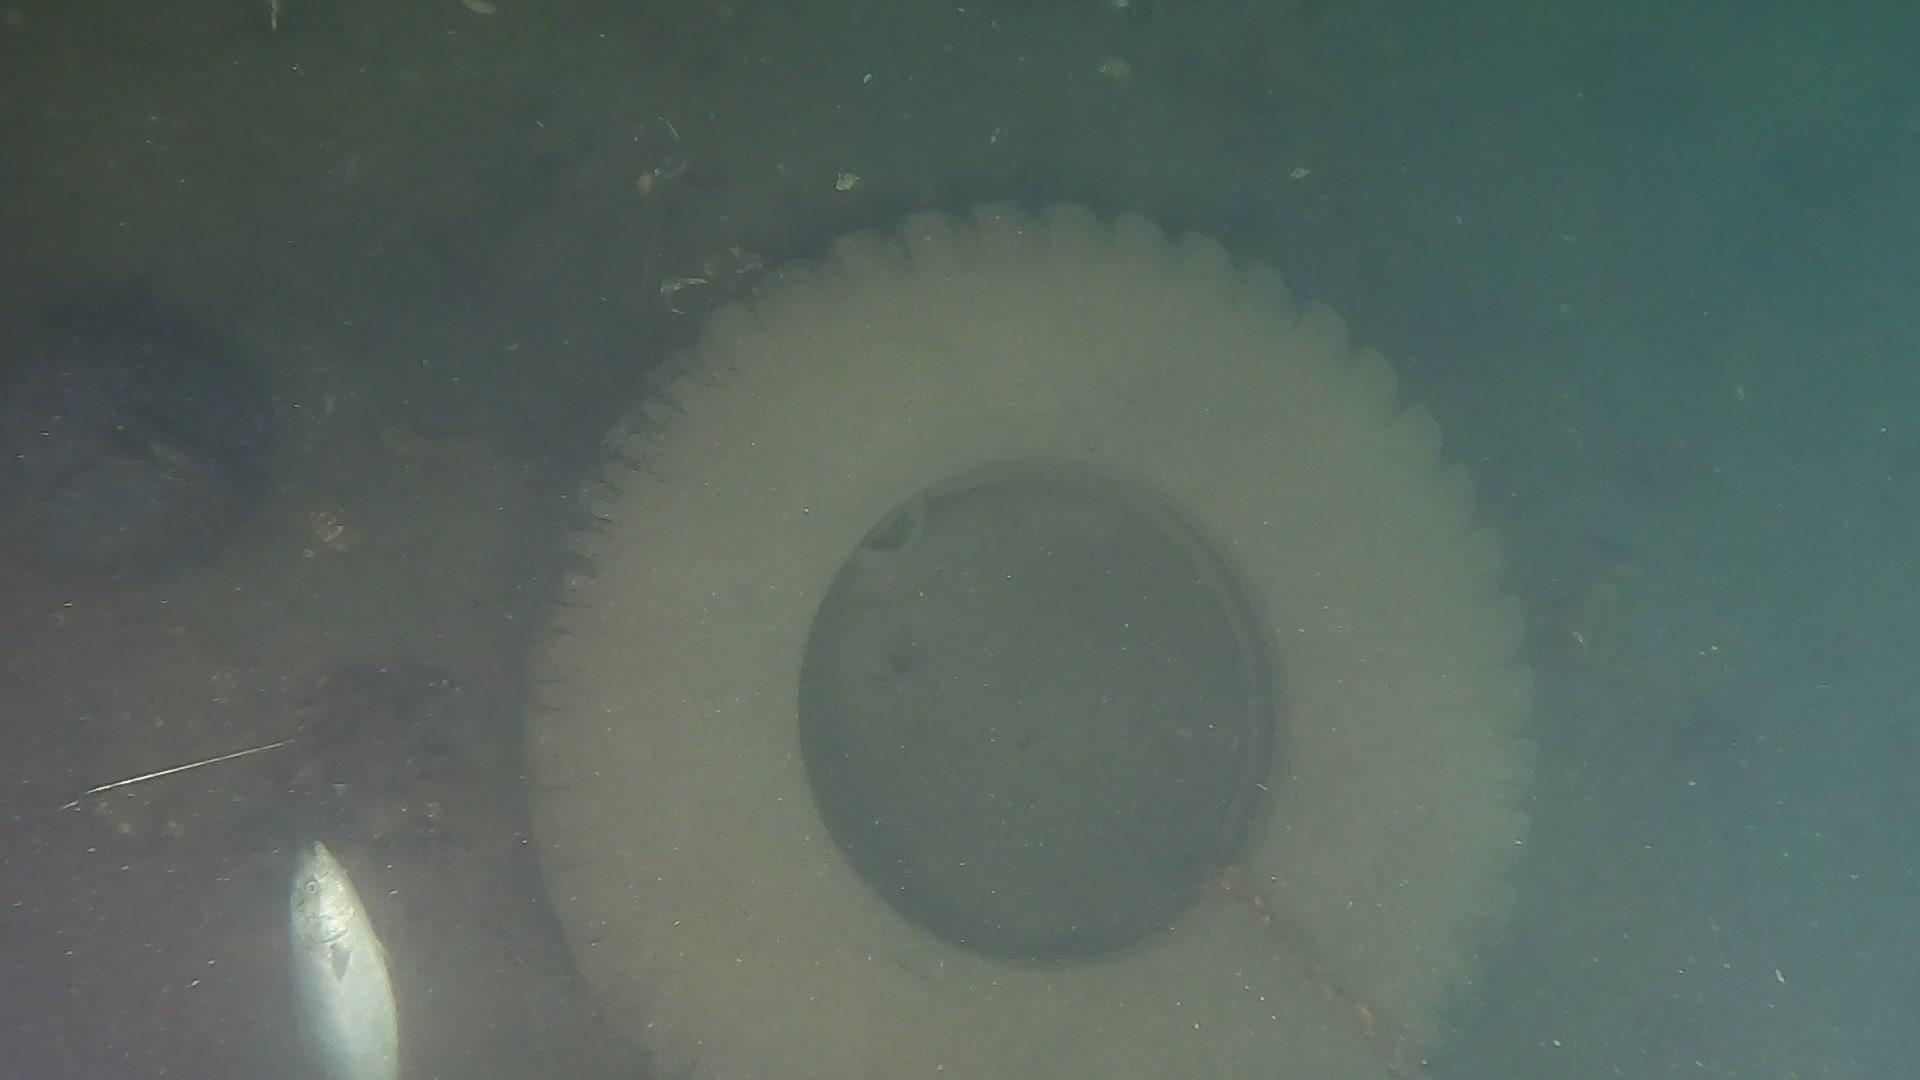tire: (520, 196, 1542, 1080)
